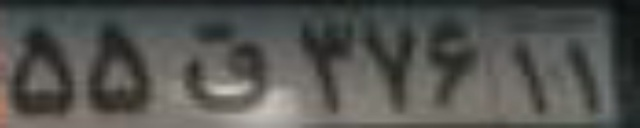1: (561, 37, 603, 115), (511, 39, 547, 115)
3: (297, 17, 354, 112)
5: (82, 24, 158, 111), (7, 26, 73, 114)
6: (425, 21, 483, 110)
7: (363, 17, 423, 113)
ghaf: (180, 21, 270, 116)
